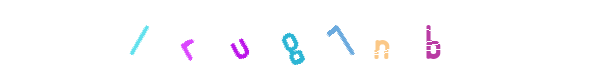1: (179, 0, 259, 80)
7: (265, 0, 345, 80)
B: (392, 0, 472, 80)
G: (262, 0, 342, 80)
N: (341, 0, 421, 80)
R: (235, 0, 315, 80)
U: (253, 0, 333, 80)
